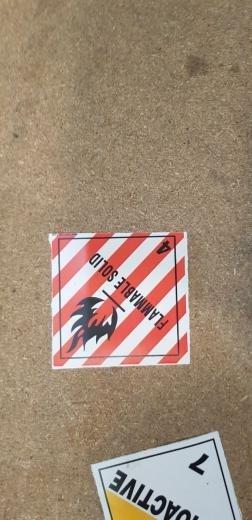flammable-solid: (47, 228, 194, 368)
radioactive: (90, 430, 248, 520)
